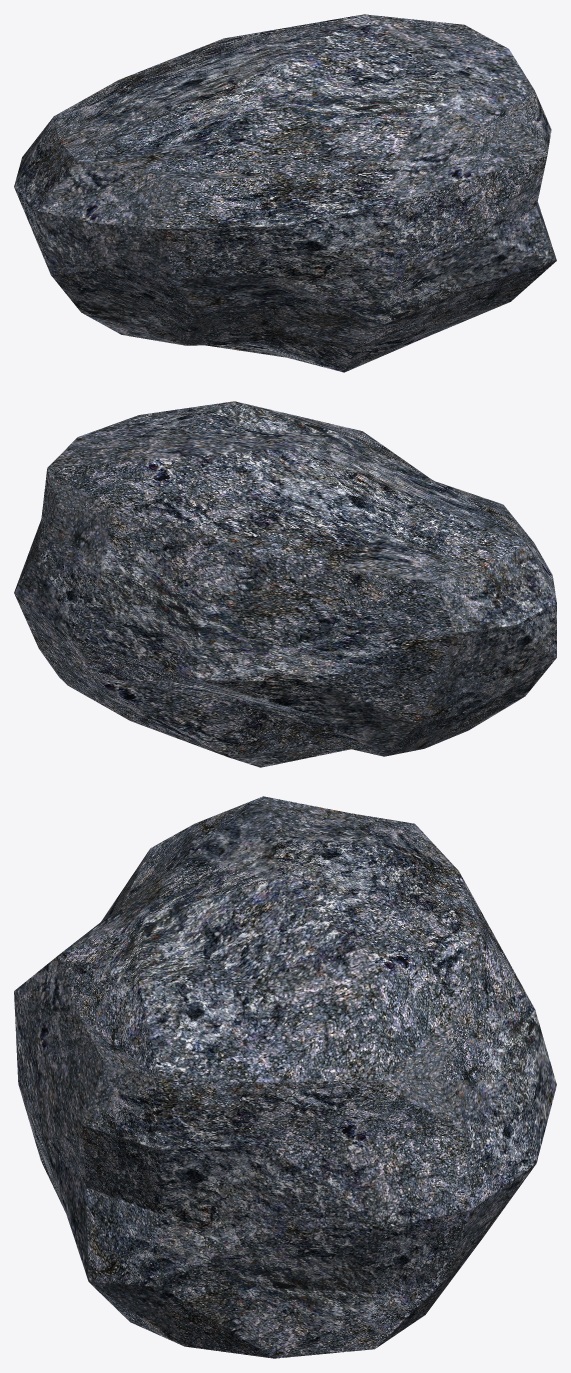
Rendered from asteroid_iron_radial_s02_l0.fbx.
3 views of the same model, one above another, from view 1: azimuth 30°, elevation 25°; view 2: azimuth 150°, elevation 25°; view 3: azimuth 270°, elevation 25° (orthographic). The views are drawn at different scales.
Parts seen in each view (by area): view 1: mesh_node; view 2: mesh_node; view 3: mesh_node.
Boxes of the visible parts, x1,y1,x2,y2 form: mesh_node: (14,14,556,372); mesh_node: (14,401,556,767); mesh_node: (14,796,556,1358).
Bounding box in the file's own units: 2.39 × 1.43 × 1.73.
